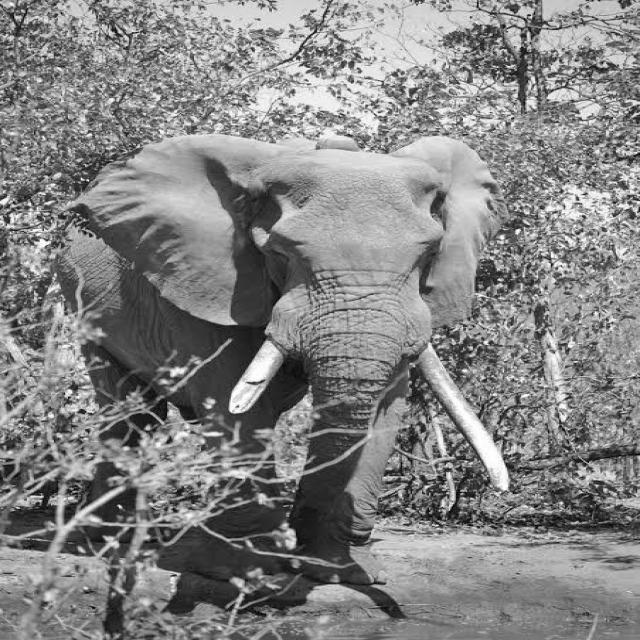Elephant: (41, 132, 513, 610)
